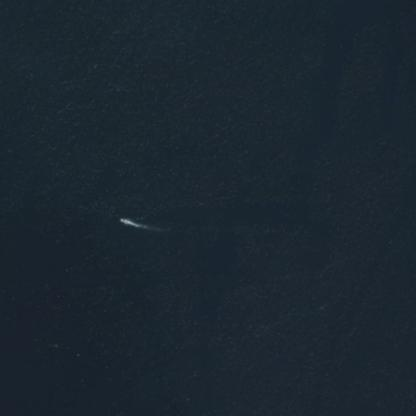ship: (112, 210, 138, 230)
